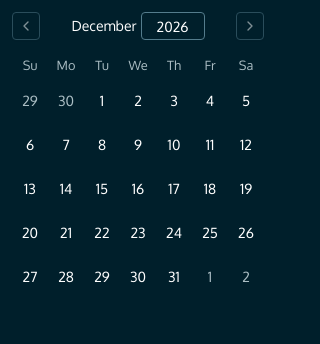
Test case: Calendar › year field › keeps the field in sync with the arrows across a year boundary
Click the button named "next month" at (250, 26), box [236,12,264,40]
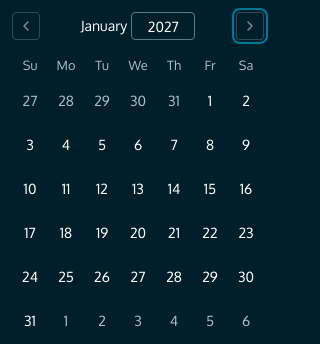
Now the text "January" is shown, box [81,16,127,36]
Now the field named "Year" holds "2027", box [131,12,195,40]
Click the button named "previous month" at (26, 26), box [12,12,40,40]
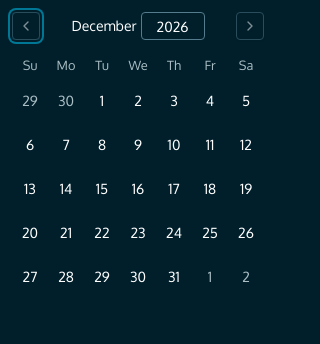
Now the text "December" is shown, box [71,16,136,36]
Now the field named "Year" holds "2026", box [141,12,205,40]
